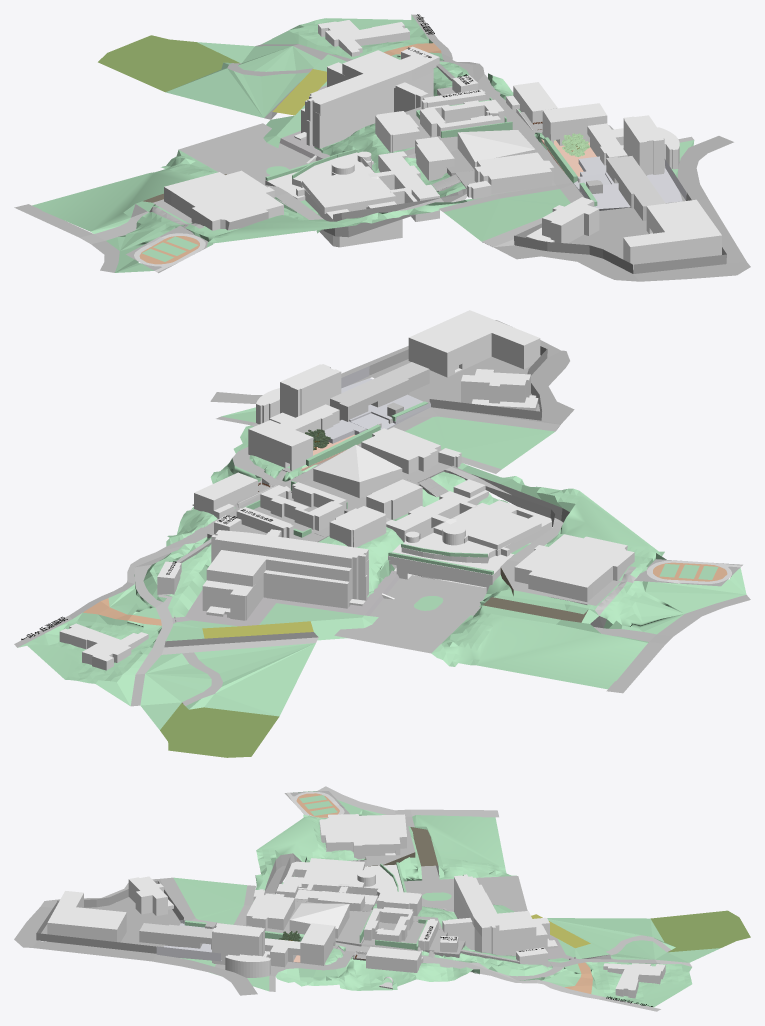
File: wholeMap.glb
The picture shows the model from 3 angles, top to bottom: view 1: azimuth 30°, elevation 25°; view 2: azimuth 150°, elevation 25°; view 3: azimuth 270°, elevation 25°; orthographic projection. The views are drawn at different scales.
Parts seen in each view (by area): view 1: object, 10号館, 9号館, 総合体育館, 1号館, 北グラウンド, 駐車場_road_1, 4号館, 5号館, 図書館別館, 6号館, 西グラウンド (+11 smaller); view 2: object, 10号館, 9号館, 駐車場_road_1, 1号館, 総合体育館, 北グラウンド, 4号館, 第1体育館, 2号館, 6号館, 図書館別館 (+9 smaller); view 3: object, 10号館, 総合体育館, 9号館, 北グラウンド, 1号館, 駐車場_road_1, 4号館, 3号館, 2号館, 第1体育館, 5号館 (+11 smaller).
Part boxes in pixels (x1=…): object: x1=14, y1=14, x2=750, y2=281; 10号館: x1=294, y1=50, x2=433, y2=163; 9号館: x1=265, y1=151, x2=402, y2=247; 総合体育館: x1=164, y1=170, x2=283, y2=230; 1号館: x1=623, y1=199, x2=721, y2=269; 北グラウンド: x1=98, y1=35, x2=239, y2=92; 駐車場_road_1: x1=179, y1=123, x2=316, y2=184; 4号館: x1=542, y1=103, x2=627, y2=165; 5号館: x1=474, y1=152, x2=554, y2=193; 図書館別館: x1=526, y1=197, x2=599, y2=243; 6号館: x1=420, y1=99, x2=504, y2=136; 西グラウンド: x1=126, y1=225, x2=208, y2=273; object: x1=14, y1=320, x2=750, y2=729; 10号館: x1=202, y1=529, x2=394, y2=620; 9号館: x1=388, y1=500, x2=551, y2=592; 駐車場_road_1: x1=334, y1=575, x2=486, y2=653; 1号館: x1=408, y1=310, x2=540, y2=377; 総合体育館: x1=514, y1=534, x2=634, y2=604; 北グラウンド: x1=160, y1=703, x2=279, y2=757; 4号館: x1=248, y1=404, x2=339, y2=470; 第1体育館: x1=313, y1=445, x2=402, y2=498; 2号館: x1=330, y1=362, x2=429, y2=421; 6号館: x1=260, y1=482, x2=346, y2=530; 図書館別館: x1=461, y1=369, x2=538, y2=410; object: x1=14, y1=786, x2=720, y2=1011; 10号館: x1=442, y1=874, x2=557, y2=955; 総合体育館: x1=319, y1=814, x2=406, y2=859; 9号館: x1=283, y1=858, x2=403, y2=897; 北グラウンド: x1=650, y1=910, x2=750, y2=952; 1号館: x1=47, y1=891, x2=126, y2=943; 駐車場_road_1: x1=404, y1=876, x2=527, y2=911; 4号館: x1=263, y1=923, x2=335, y2=967; 3号館: x1=212, y1=923, x2=264, y2=964; 2号館: x1=139, y1=923, x2=213, y2=949; 第1体育館: x1=289, y1=903, x2=349, y2=938; 5号館: x1=246, y1=893, x2=294, y2=930.
Bounding box in the file's own units: 215 × 33.87 × 291.
